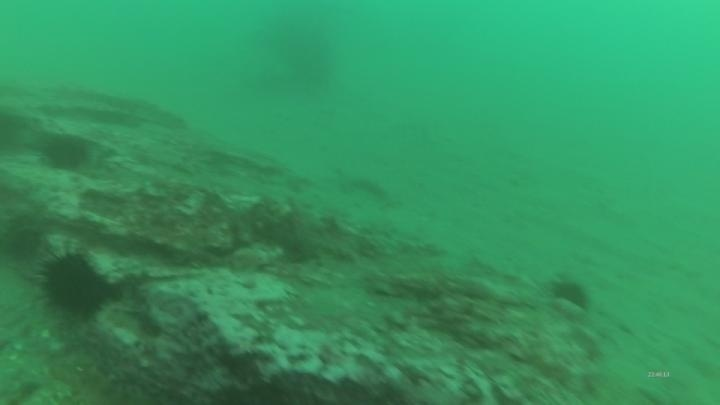echinus: (34, 246, 114, 322), (39, 131, 92, 174), (2, 221, 45, 264), (549, 274, 594, 313)
